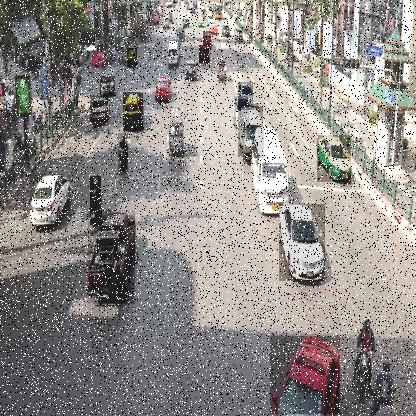car: (270, 336, 341, 415), (279, 204, 326, 282), (30, 174, 72, 226), (317, 135, 352, 183), (123, 92, 144, 132), (90, 96, 109, 123), (234, 96, 249, 128), (154, 77, 171, 104), (238, 82, 254, 110), (100, 76, 116, 97), (185, 60, 196, 81), (127, 48, 138, 68), (199, 45, 210, 64), (234, 28, 244, 42), (203, 31, 212, 46), (222, 25, 231, 38)
motocycle: (90, 176, 102, 225), (118, 133, 129, 173)
truck: (88, 210, 136, 305)
van: (251, 128, 290, 215), (238, 106, 264, 158), (168, 42, 180, 68)
